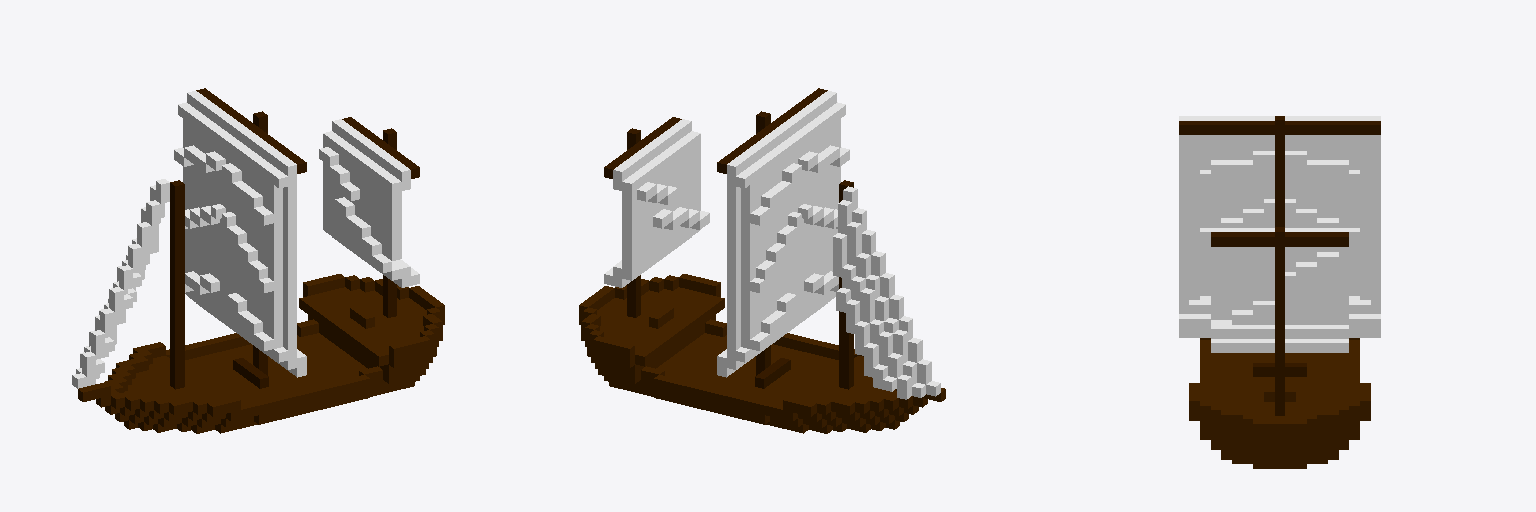
The picture shows the model from 3 angles: view 1: azimuth 30°, elevation 25°; view 2: azimuth 150°, elevation 25°; view 3: azimuth 270°, elevation 25°; orthographic projection.
Parts seen in each view (by area): view 1: object 1; view 2: object 1; view 3: object 1.
Part boxes in pixels (left/top/right/bottom): object 1: left=72, top=88, right=444, bottom=433; object 1: left=579, top=88, right=945, bottom=433; object 1: left=1179, top=116, right=1380, bottom=468.
Bounding box in the file's own units: 3.8 × 2.9 × 1.9.
Materials: 1 (1 with a texture image).